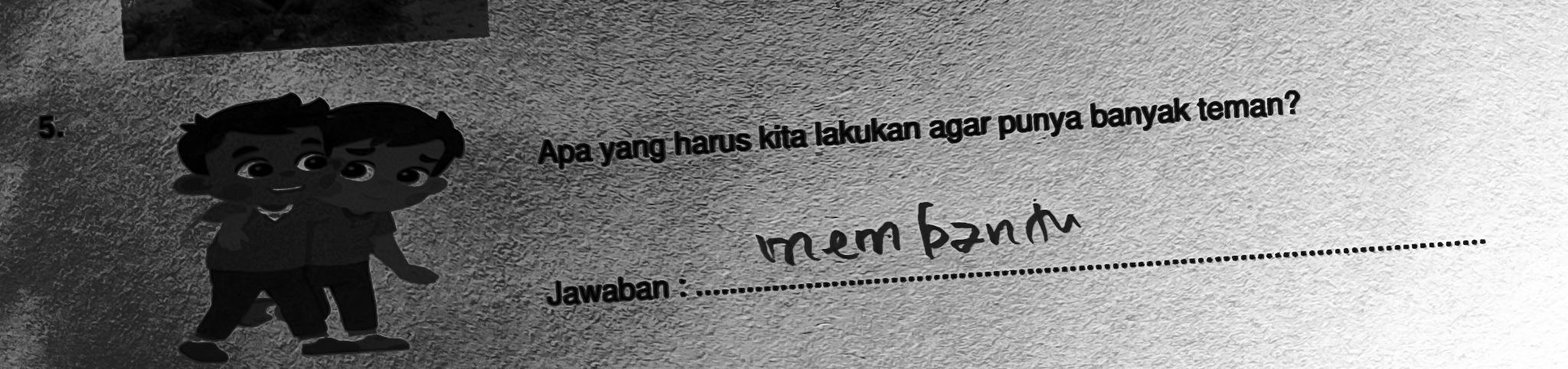jawaban: (752, 178, 1089, 286)
